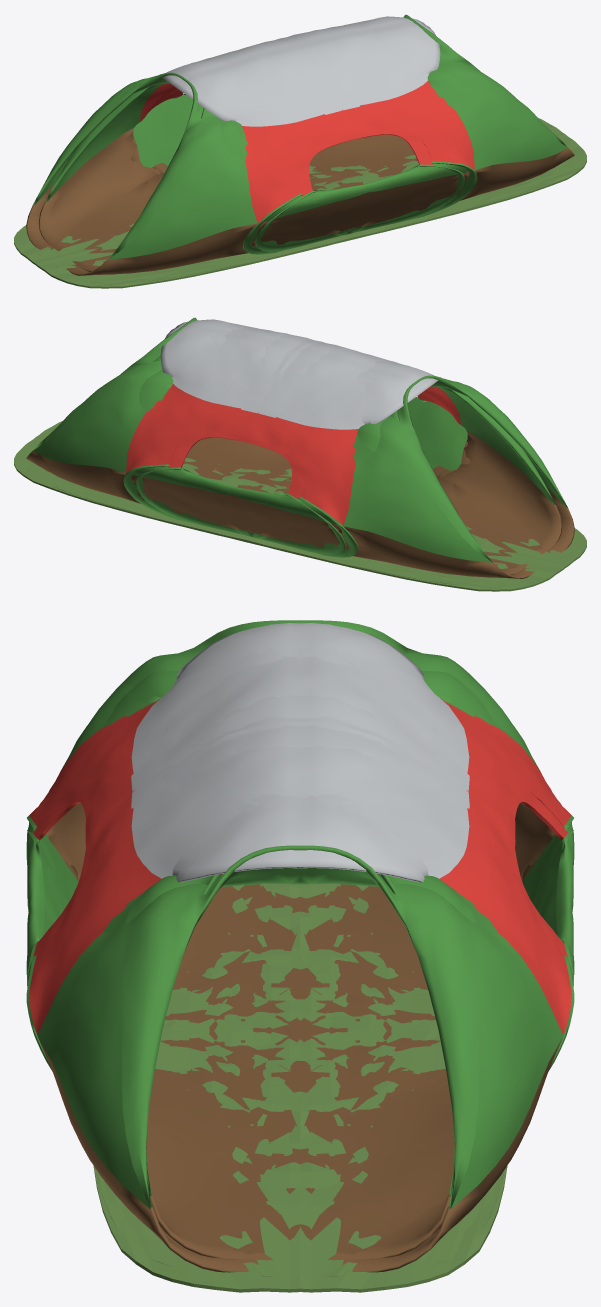
Rendered from tenda 1.fbx.
3 views of the same model, one above another, from view 1: azimuth 30°, elevation 25°; view 2: azimuth 150°, elevation 25°; view 3: azimuth 270°, elevation 25° (orthographic). The views are drawn at different scales.
Parts seen in each view (by area): view 1: Cube; view 2: Cube; view 3: Cube.
Boxes of the visible parts, left/top/right/bottom form: Cube: left=14, top=14, right=586, bottom=288; Cube: left=14, top=317, right=586, bottom=591; Cube: left=26, top=620, right=574, bottom=1292.
Bounding box in the file's own units: 9.96 × 2.83 × 4.46.
